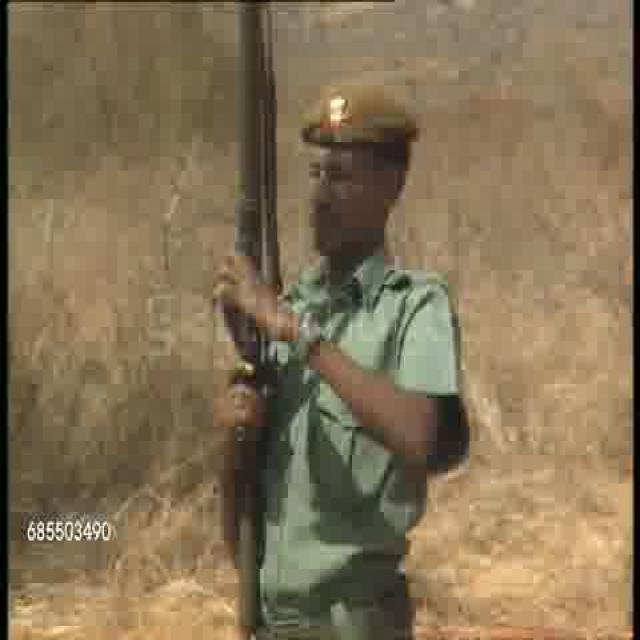poacher: (290, 62, 462, 615)
weapon: (230, 1, 278, 622)
